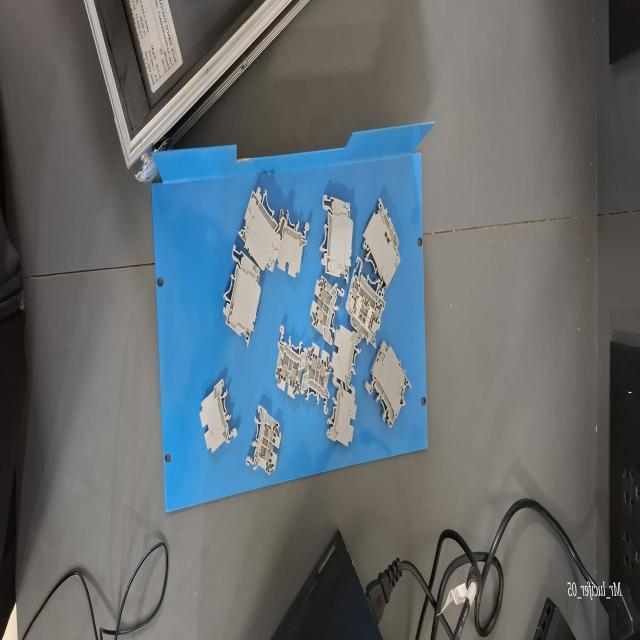Inverted: (197, 374, 240, 458), (272, 206, 310, 282), (326, 324, 364, 394), (326, 382, 358, 454)
Pass: (242, 402, 282, 478), (308, 272, 346, 346), (273, 322, 308, 401), (298, 340, 334, 414)
